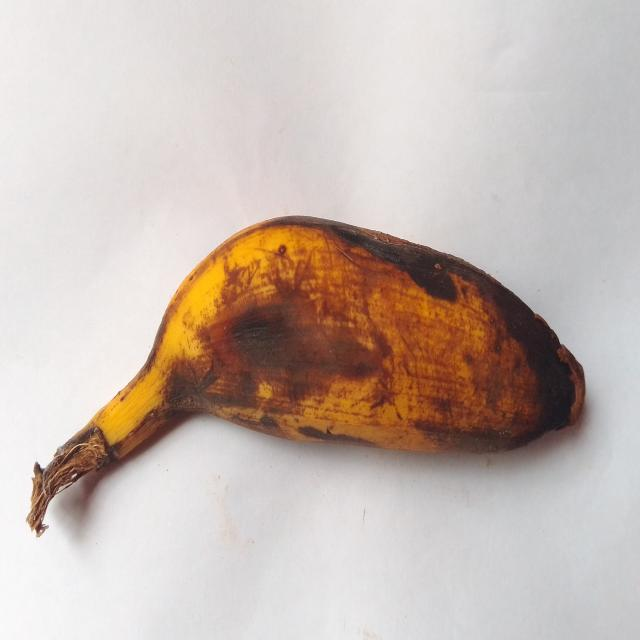banana: (28, 217, 584, 535)
